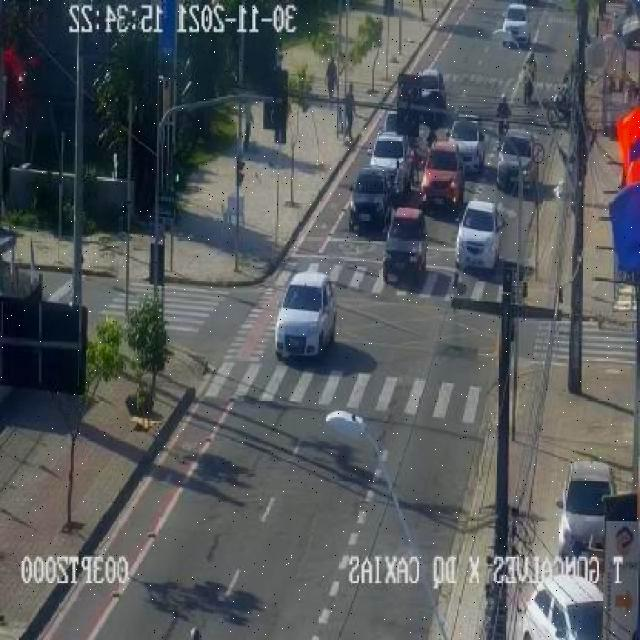car: (559, 461, 614, 556), (275, 272, 335, 359), (522, 575, 602, 640), (456, 201, 502, 269), (384, 208, 426, 282), (422, 141, 464, 208), (370, 131, 410, 194), (349, 169, 389, 231), (498, 130, 531, 192), (451, 120, 484, 173)
